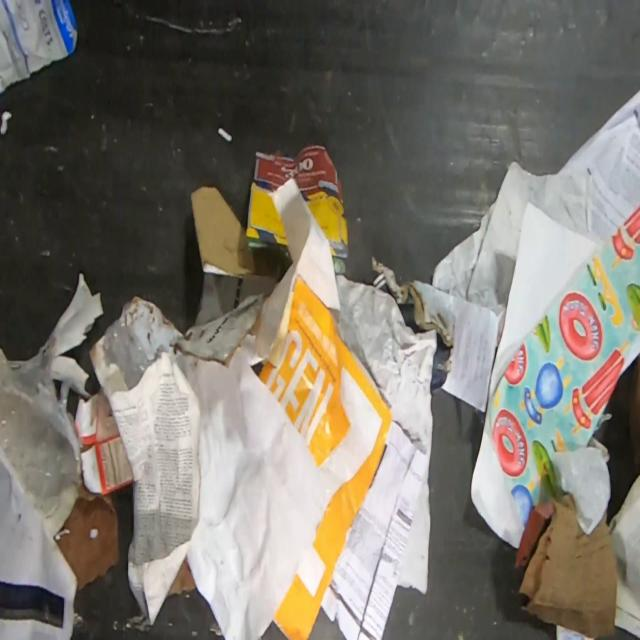cardboard: (246, 144, 348, 260), (371, 256, 455, 373), (76, 391, 134, 495), (191, 186, 255, 278)
soft_plastic: (0, 331, 82, 538), (106, 318, 152, 391)
